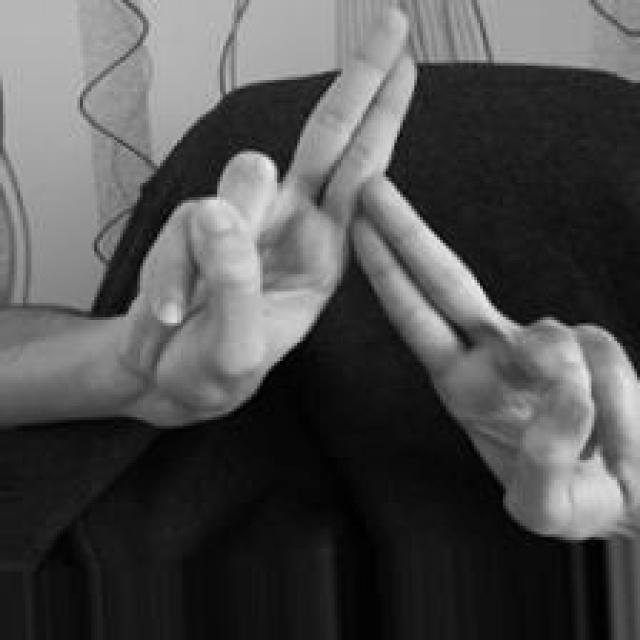K: (115, 3, 640, 542)
